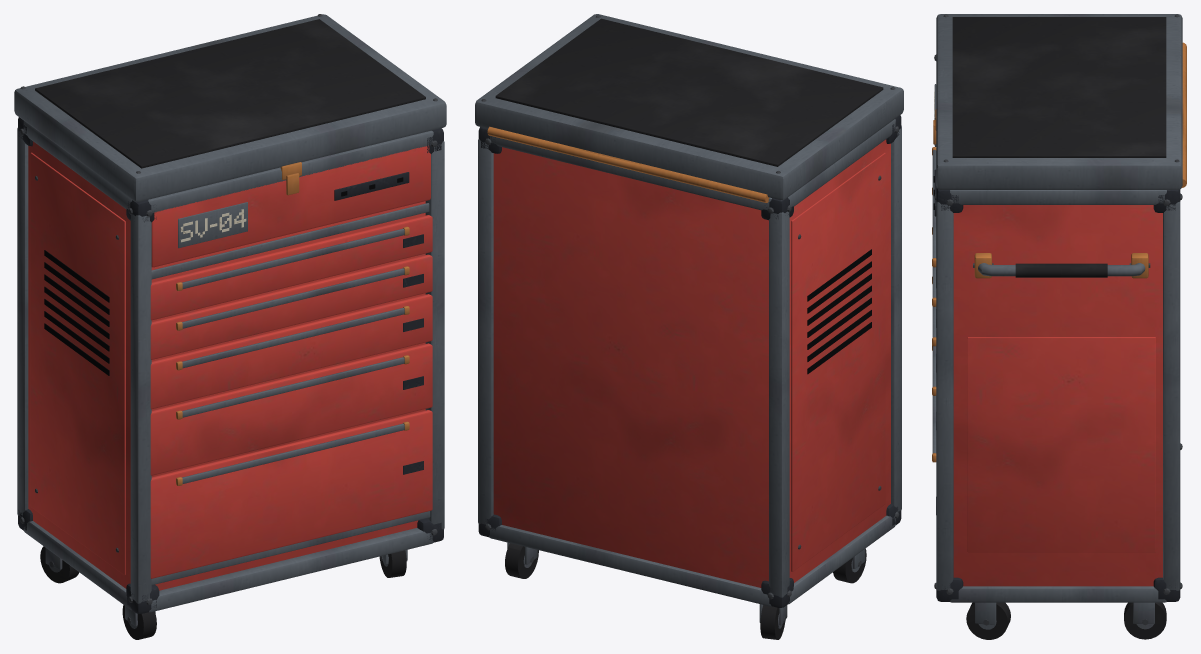
The model's file is tool_cabinet.glb.
The picture shows the model from 3 angles, left to right: view 1: azimuth 30°, elevation 25°; view 2: azimuth 150°, elevation 25°; view 3: azimuth 270°, elevation 25°; orthographic projection.
Parts seen in each view (by area): view 1: ToolCabinetBody; view 2: ToolCabinetBody; view 3: ToolCabinetBody.
Part boxes in pixels (bbox=[...]): ToolCabinetBody: bbox=[14, 14, 446, 639]; ToolCabinetBody: bbox=[475, 14, 903, 639]; ToolCabinetBody: bbox=[932, 14, 1186, 639].
Size of the model in its own units: 0.7085 by 0.9985 by 0.472.
Materials: 8 (7 with a texture image).
